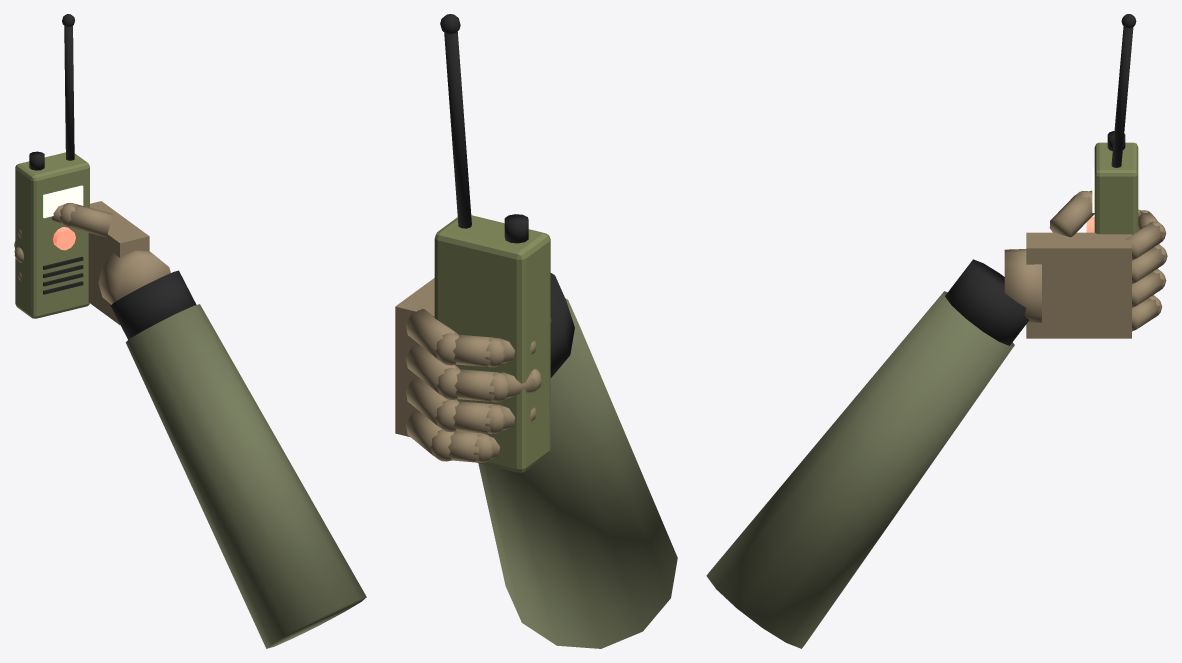
Rendered from radio.glb.
3 renders of one model, left to right at view 1: azimuth 30°, elevation 25°; view 2: azimuth 150°, elevation 25°; view 3: azimuth 270°, elevation 25°, orthographic. The views are drawn at different scales.
Parts seen in each view (by area): view 1: Radio_HandRight, Radio_Body; view 2: Radio_HandRight, Radio_Body; view 3: Radio_HandRight, Radio_Body.
Part boxes in pixels (x1,y1,x2,y2): Radio_HandRight: (14,201,366,648); Radio_Body: (15,14,89,318); Radio_HandRight: (395,273,677,648); Radio_Body: (434,14,550,472); Radio_HandRight: (706,190,1167,648); Radio_Body: (1086,14,1138,234).
Size of the model in its own units: 0.1856 by 0.5215 by 0.3708.
